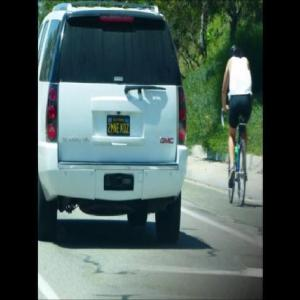Plate: (108, 114, 132, 135)
